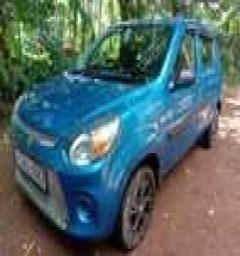car: (5, 5, 236, 249)
